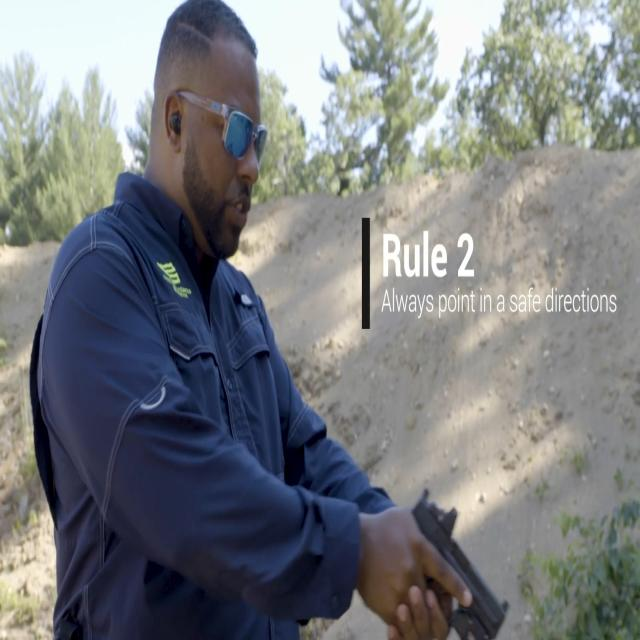Gun_Holder: (395, 469, 531, 640)
Person: (39, 3, 438, 640)
